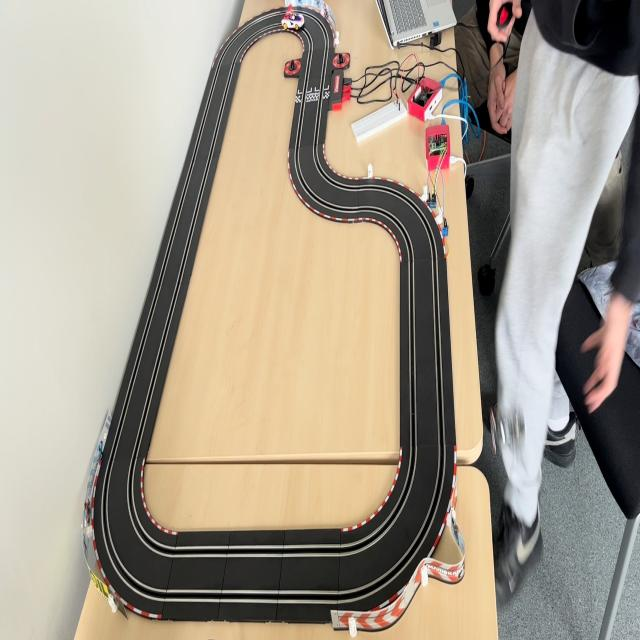mario: (280, 13, 306, 30)
